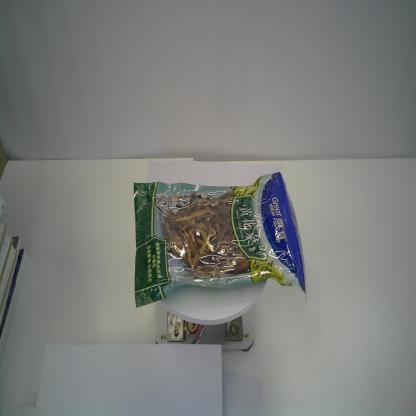Dried Food: (132, 171, 308, 309)
